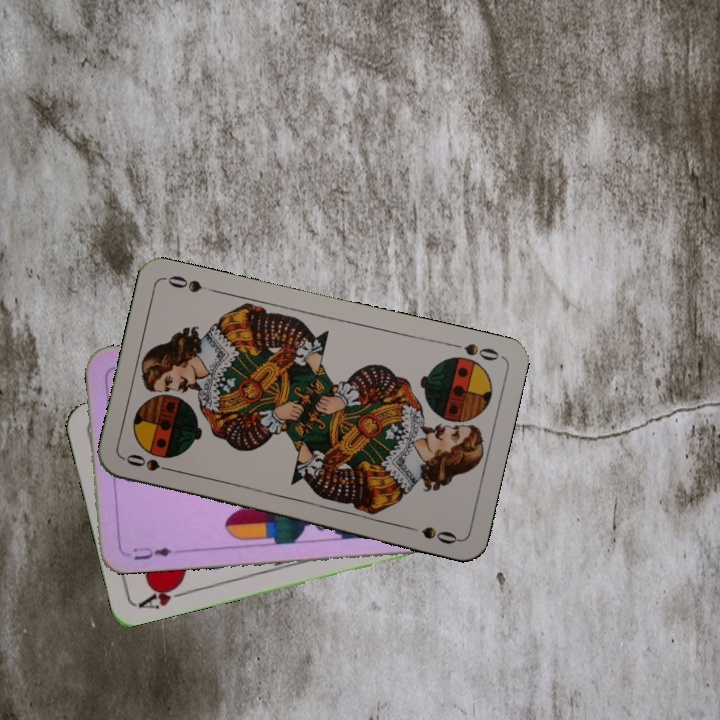EU: (129, 543, 175, 562)
HA: (135, 577, 193, 612)
SO: (445, 338, 502, 364), (122, 450, 179, 475)
